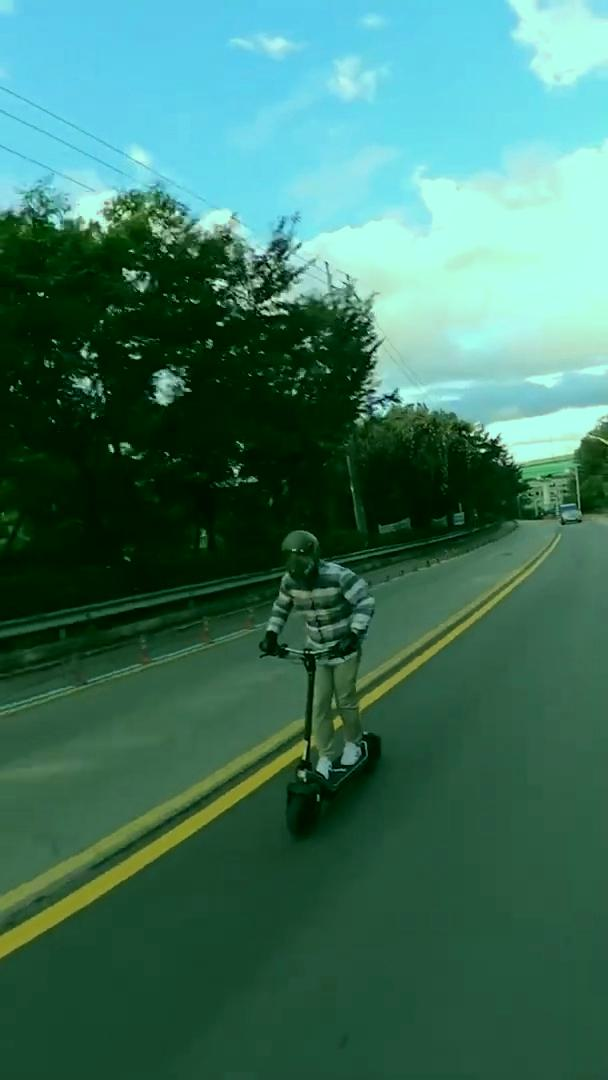helmet: (256, 523, 385, 841)
